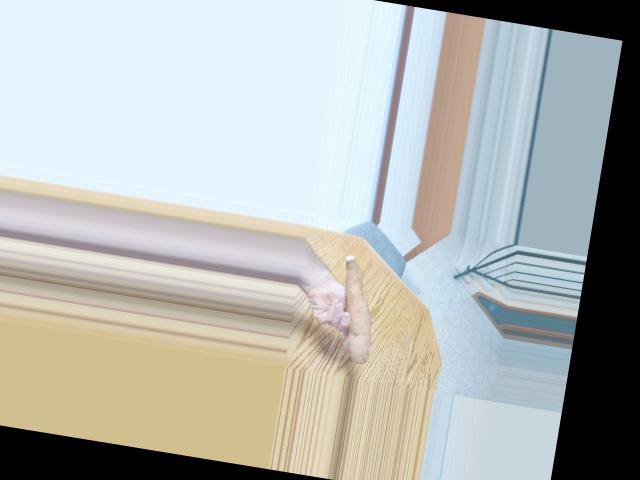sweet_potato: (323, 254, 389, 362)
